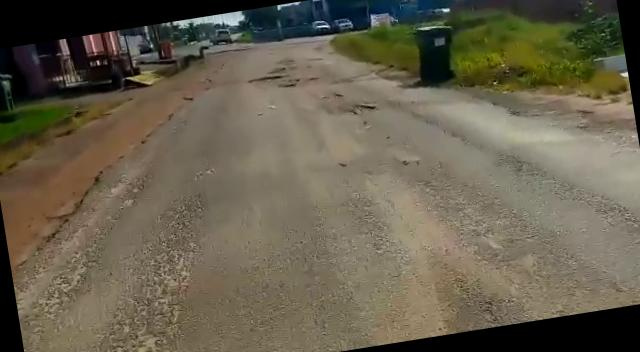pothole: (248, 69, 289, 84), (348, 102, 376, 116)
